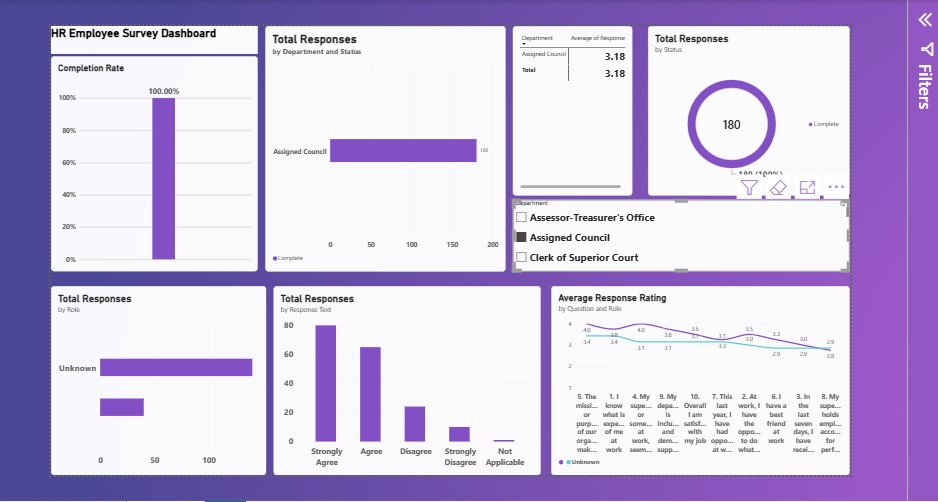

The dashboard page shown, as its layout file describes it:
{"tool":"powerbi","page":{"name":"Page 1","canvas":[1920,1080],"ordinal":0},"visuals":[{"type":"clusteredColumnChart","fields":{"Y":["Data Dictionary.Completion Rate"]},"box":[0,72.5,497.5,517.5],"z":0},{"type":"donutChart","fields":{"Category":["HR Survey Reponses.Status"],"Y":["HR Survey Reponses.Total Responses"]},"box":[1435,0,485,407.5],"z":1000},{"type":"barChart","fields":{"Category":["HR Survey Reponses.Department"],"Series":["HR Survey Reponses.Status"],"Y":["HR Survey Reponses.Total Responses"]},"box":[515,0,577.5,590],"z":2000},{"type":"clusteredBarChart","fields":{"Category":["HR Survey Reponses.Role"],"Y":["HR Survey Reponses.Total Responses"]},"box":[0,625,517.5,455],"z":3000},{"type":"slicer","fields":{"Values":["HR Survey Reponses.Department"]},"box":[1110,417.5,810,172.5],"z":4000},{"type":"clusteredColumnChart","fields":{"Category":["HR Survey Reponses.Response Text"],"Y":["HR Survey Reponses.Total Responses"]},"box":[535,625,642.5,455],"z":5000},{"type":"pivotTable","fields":{"Rows":["HR Survey Reponses.Department"],"Values":["Avg(HR Survey Reponses.Response)"]},"box":[1110,0,287.5,407.5],"z":6000},{"type":"lineChart","fields":{"Category":["HR Survey Reponses.Question"],"Series":["HR Survey Reponses.Role"],"Y":["HR Survey Reponses.Average Response Rating"]},"box":[1202.5,625,717.5,455],"z":7000},{"type":"textbox","title":"HR Employee Survey Dashboard","box":[0,0,497.5,67.5],"z":8000}]}

Visuals, with their boxes on the page's 1920x1080 design canvas (x1, y1, x2, y2). These are canvas units, not pixel positions in the 938x502 screenshot, which may show the page scaled, cropped or inside an application window:
clusteredColumnChart - Data Dictionary.Completion Rate: select_region(0, 72, 498, 590)
donutChart - HR Survey Reponses.Status x HR Survey Reponses.Total Responses: select_region(1435, 0, 1920, 408)
barChart - HR Survey Reponses.Department x HR Survey Reponses.Status: select_region(515, 0, 1092, 590)
clusteredBarChart - HR Survey Reponses.Role x HR Survey Reponses.Total Responses: select_region(0, 625, 518, 1080)
slicer - HR Survey Reponses.Department: select_region(1110, 418, 1920, 590)
clusteredColumnChart - HR Survey Reponses.Response Text x HR Survey Reponses.Total Responses: select_region(535, 625, 1178, 1080)
pivotTable - HR Survey Reponses.Department x Avg(HR Survey Reponses.Response): select_region(1110, 0, 1398, 408)
lineChart - HR Survey Reponses.Question x HR Survey Reponses.Role: select_region(1202, 625, 1920, 1080)
"HR Employee Survey Dashboard" textbox: select_region(0, 0, 498, 68)
